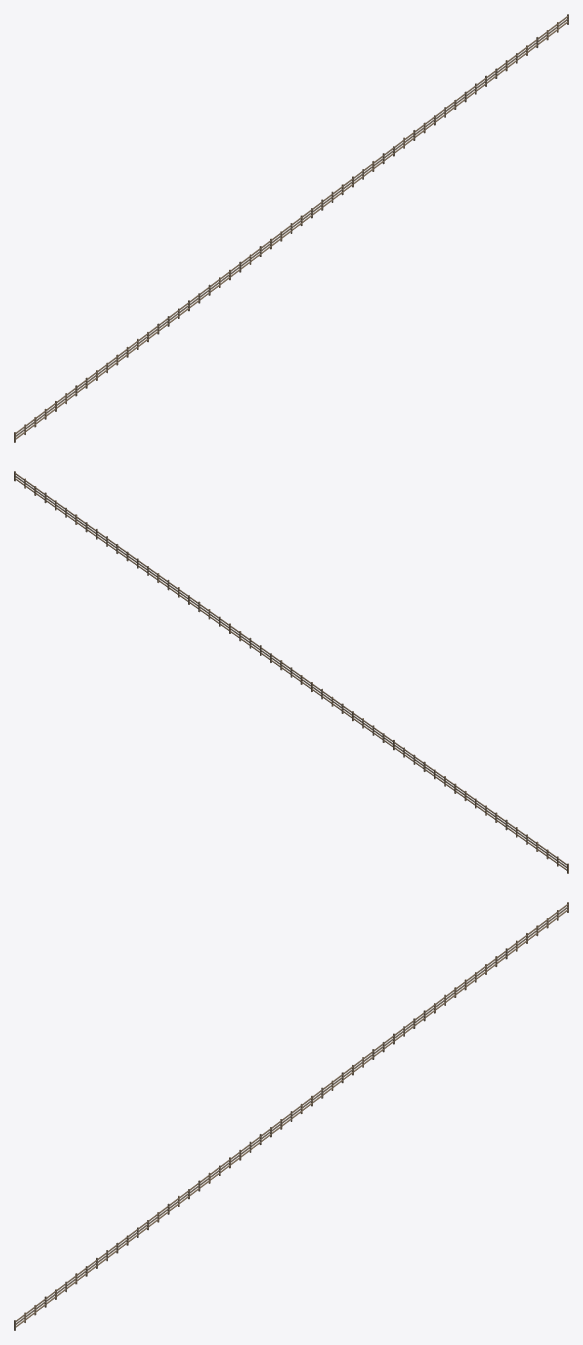
The model's file is border_00035.glb.
3 views of the same model, one above another, from view 1: azimuth 90°, elevation 25°; view 2: azimuth 150°, elevation 25°; view 3: azimuth 270°, elevation 25° (orthographic). The views are drawn at different scales.
Parts seen in each view (by area): view 1: Fence rails, Fence posts; view 2: Fence rails, Fence posts; view 3: Fence rails, Fence posts.
Part boxes in pixels (x1=…): Fence rails: x1=16, y1=16, x2=568, y2=439; Fence posts: x1=14, y1=14, x2=568, y2=442; Fence rails: x1=14, y1=473, x2=566, y2=870; Fence posts: x1=14, y1=471, x2=568, y2=873; Fence rails: x1=16, y1=904, x2=568, y2=1327; Fence posts: x1=14, y1=902, x2=568, y2=1330.
Size of the model in its own units: 102 by 1.21 by 56.87.
